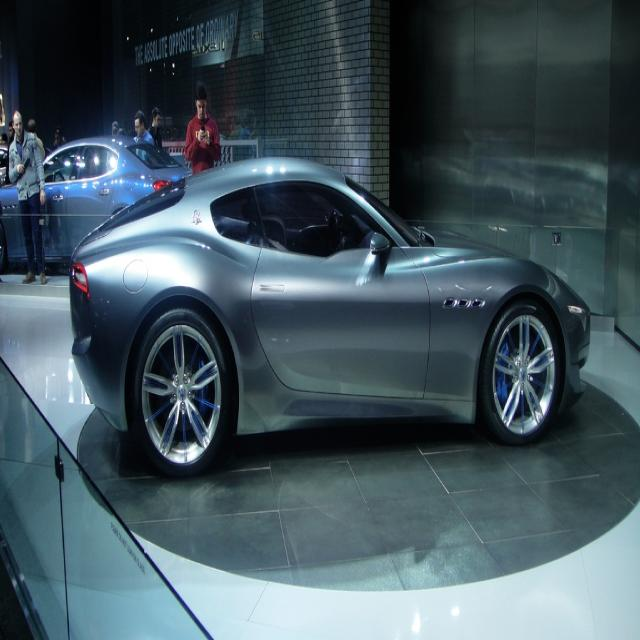Passenger Car: (69, 156, 592, 476)
Pedestrians: (8, 107, 50, 287)
